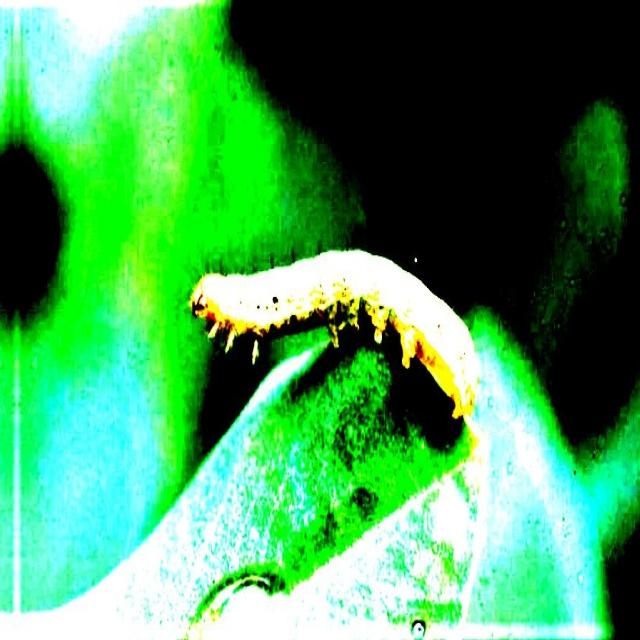Armyworm: (182, 194, 479, 452)
